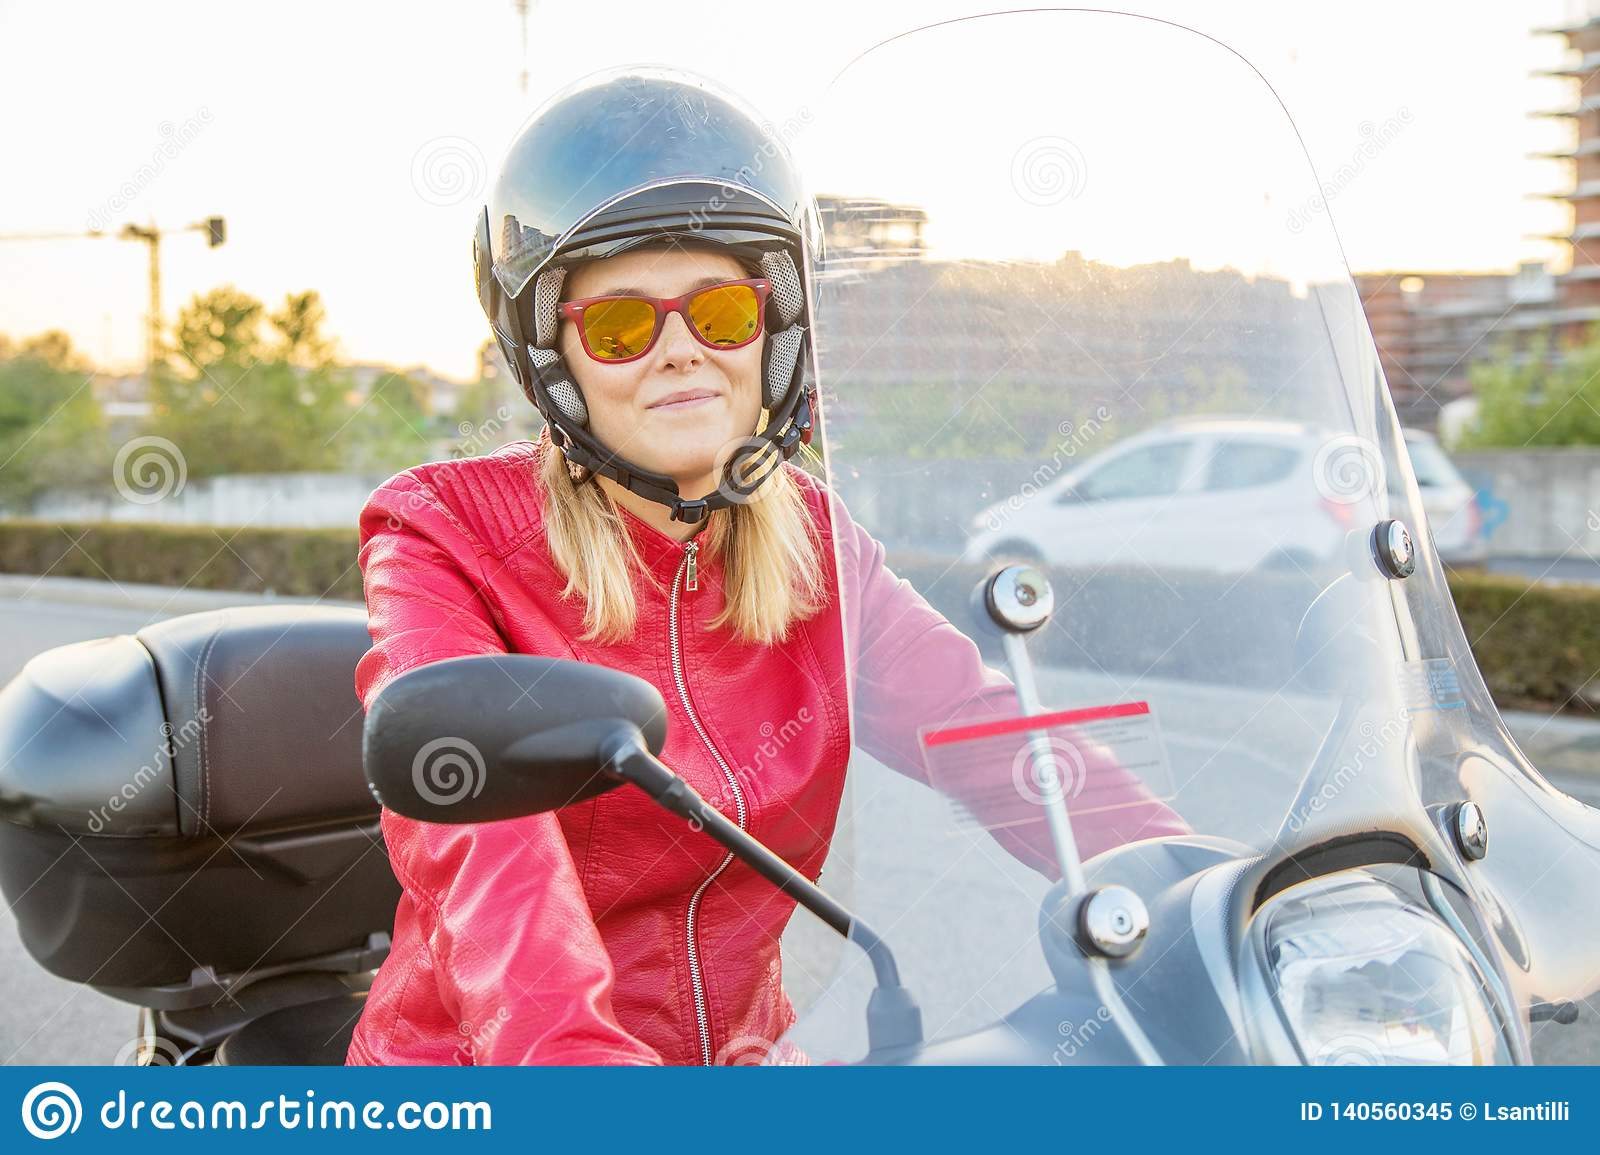helmet: (455, 102, 825, 281)
